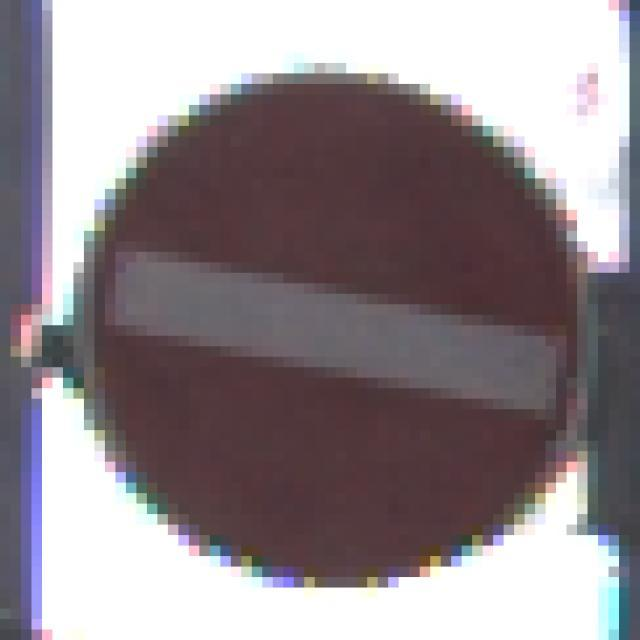no entry: (66, 57, 585, 593)
